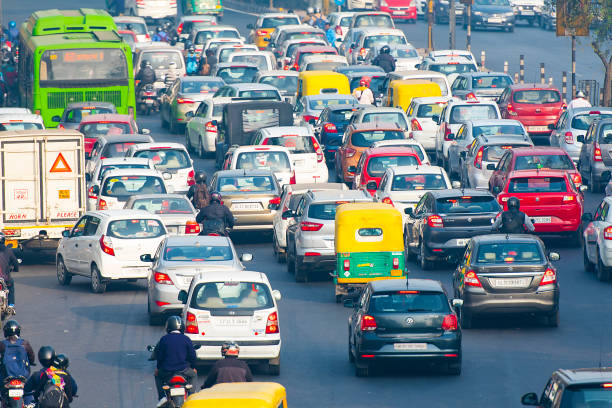bus: (21, 21, 133, 130)
car: (350, 281, 462, 380), (189, 274, 279, 371), (458, 233, 554, 323), (59, 211, 157, 291), (287, 191, 377, 278), (151, 237, 235, 317), (501, 170, 584, 241), (408, 193, 493, 262), (490, 147, 575, 202), (210, 171, 279, 233), (463, 138, 534, 197), (255, 127, 323, 187), (551, 106, 612, 171), (455, 120, 523, 174), (127, 145, 192, 201), (501, 84, 564, 141), (128, 192, 194, 245), (224, 146, 290, 196), (226, 105, 289, 156), (452, 72, 512, 121), (342, 121, 394, 177), (105, 171, 162, 222), (384, 171, 447, 216), (161, 78, 219, 126), (454, 68, 514, 111), (294, 95, 351, 140), (405, 96, 455, 147), (577, 122, 612, 194), (82, 118, 137, 162), (353, 151, 408, 194), (136, 45, 184, 90), (585, 198, 612, 275), (464, 2, 516, 39), (189, 102, 228, 150), (318, 106, 358, 149), (347, 66, 386, 109), (249, 14, 298, 46), (176, 18, 212, 58), (359, 30, 404, 62), (349, 15, 390, 45), (377, 1, 417, 24)
rickshaw: (335, 206, 406, 300), (386, 79, 443, 122), (297, 71, 347, 106)
truck: (2, 131, 86, 267)
